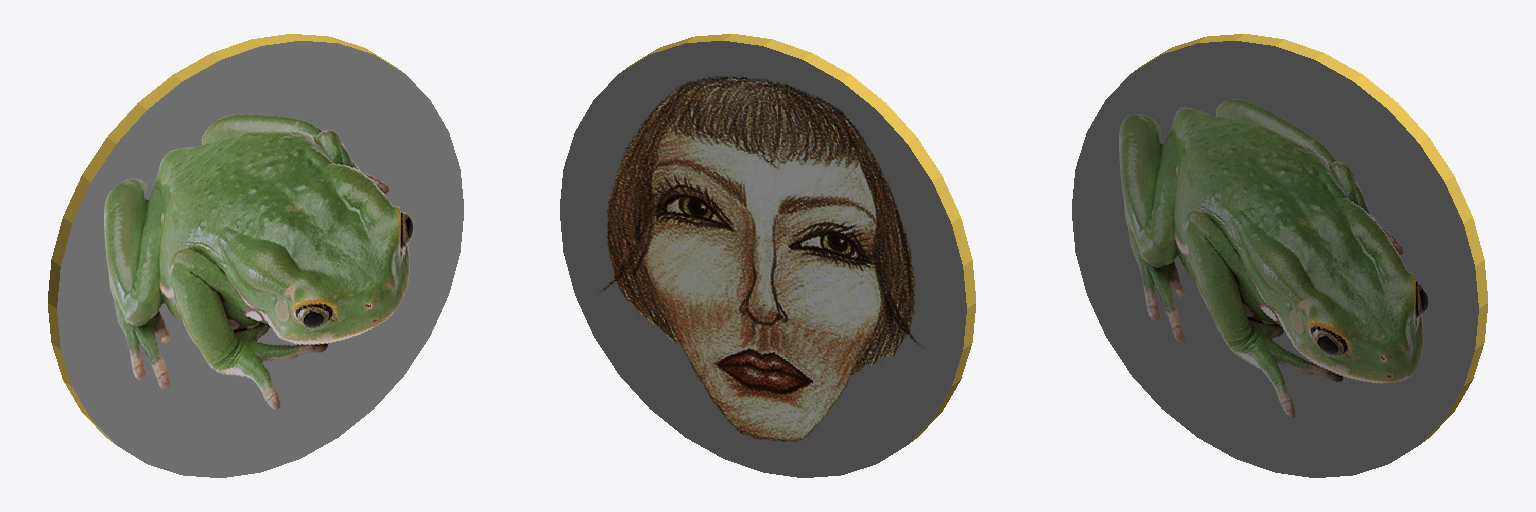
The picture shows the model from 3 angles: view 1: azimuth 30°, elevation 25°; view 2: azimuth 150°, elevation 25°; view 3: azimuth 330°, elevation 25°; orthographic projection.
Visible parts, largest first — view 1: Cylinder; view 2: Cylinder; view 3: Cylinder.
Part boxes in pixels (x1,y1,x2,y2): Cylinder: (48, 34, 463, 477); Cylinder: (560, 34, 975, 477); Cylinder: (1072, 34, 1487, 477).
Size of the model in its own units: 2 by 2 by 0.08.
Materials: 1 (1 with a texture image).